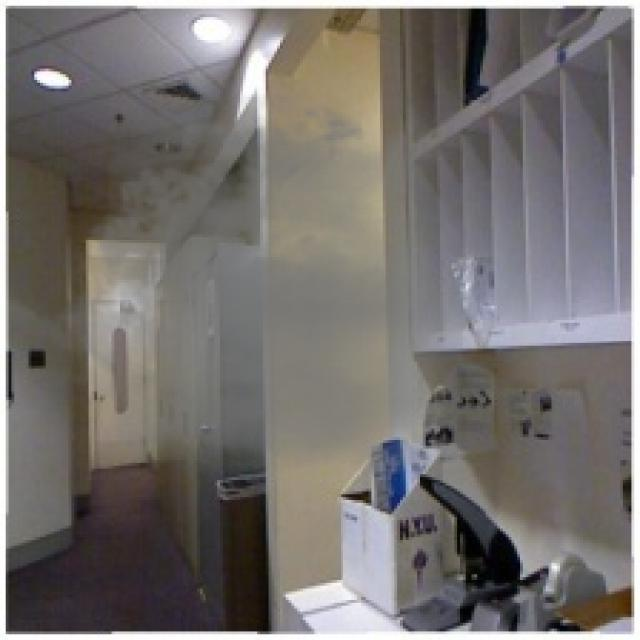Smoke: (37, 94, 463, 474)
